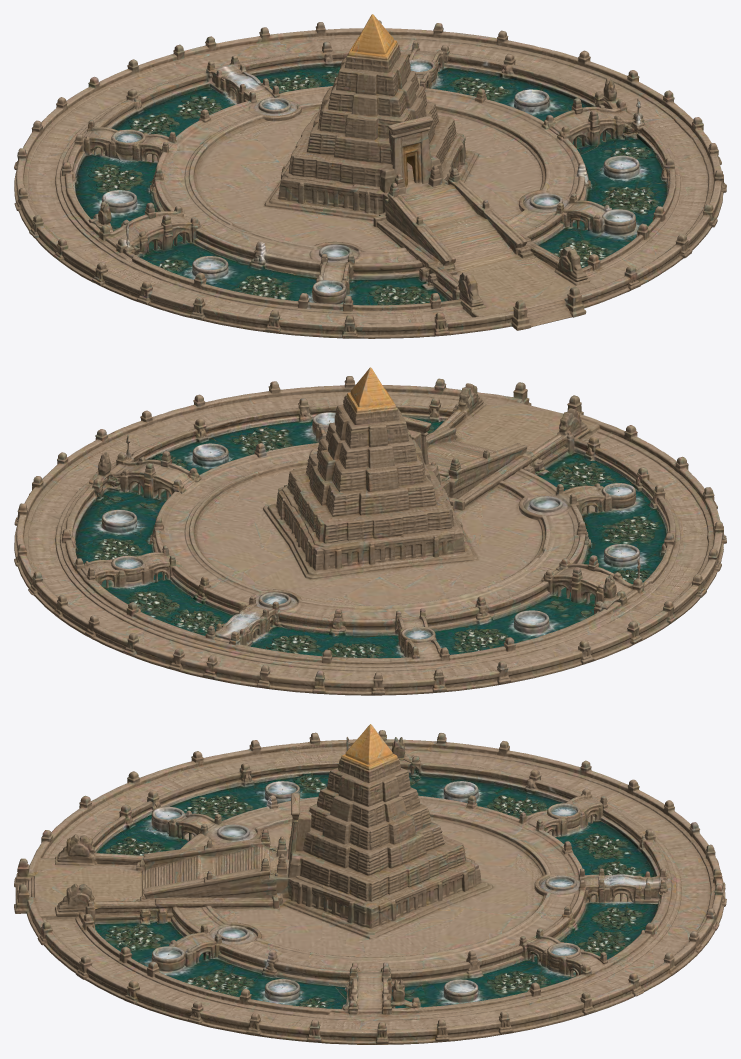
File: pyramid_small.glb
The picture shows the model from 3 angles, top to bottom: view 1: azimuth 30°, elevation 25°; view 2: azimuth 150°, elevation 25°; view 3: azimuth 270°, elevation 25°; orthographic projection.
Size of the model in its own units: 1.88 by 0.512 by 1.9.
1 material, 1 textured.
